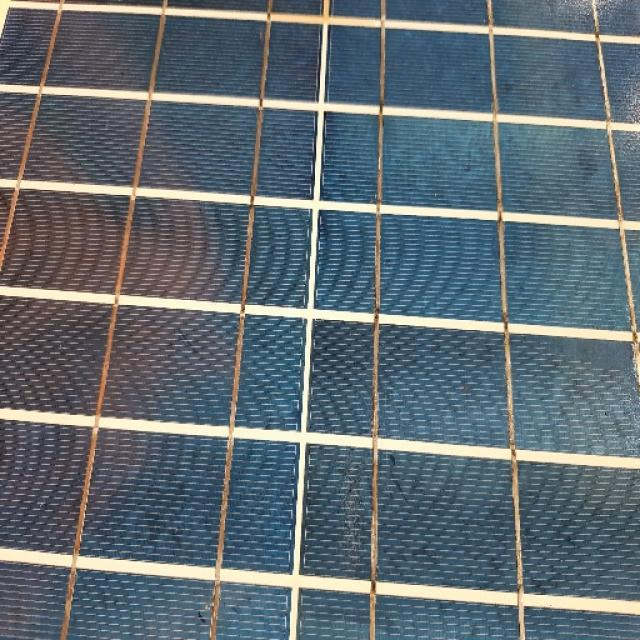Clean: (1, 40, 640, 640)
